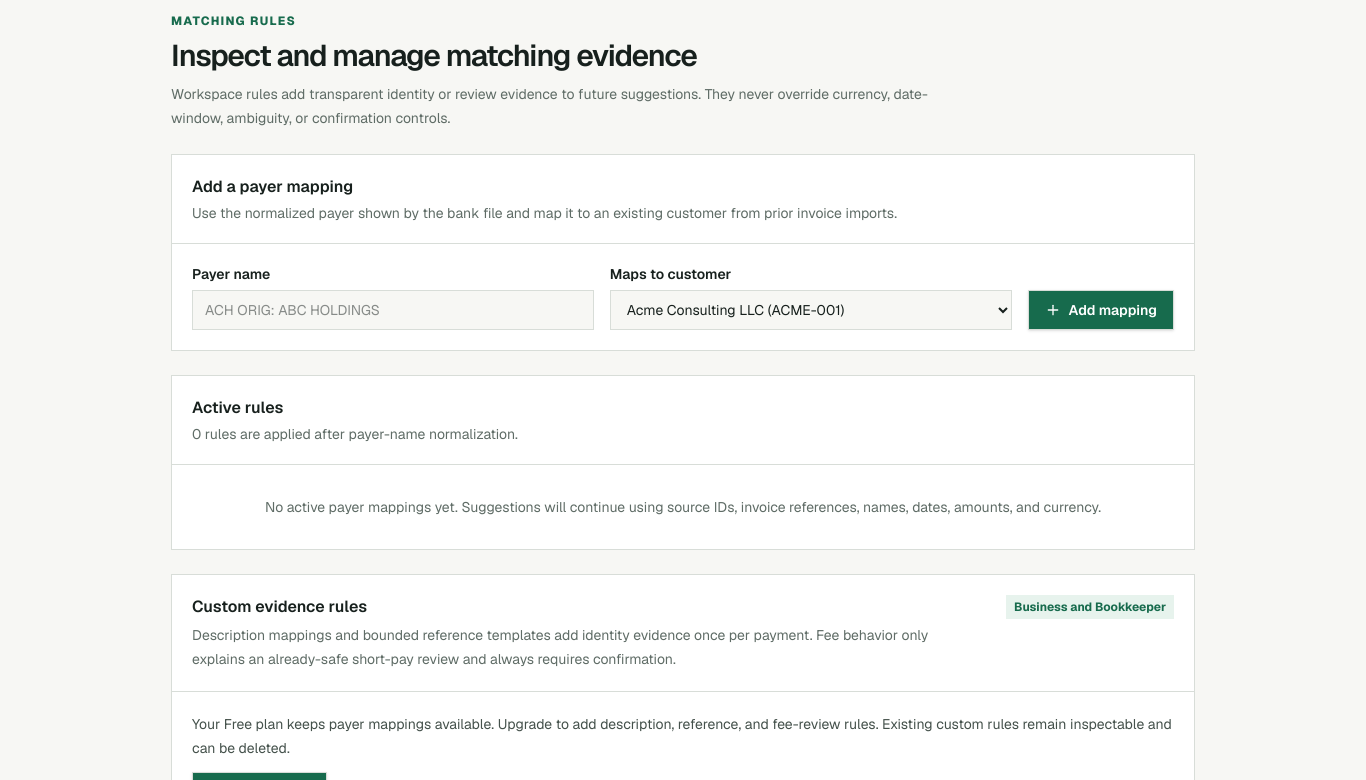
Test: RulesPanel › adds a live payer mapping through the workspace route
This screenshot has width=1366, height=780.
In the field labelled "Payer name": (393, 310) [192, 290, 594, 330], type "Parent Treasury"
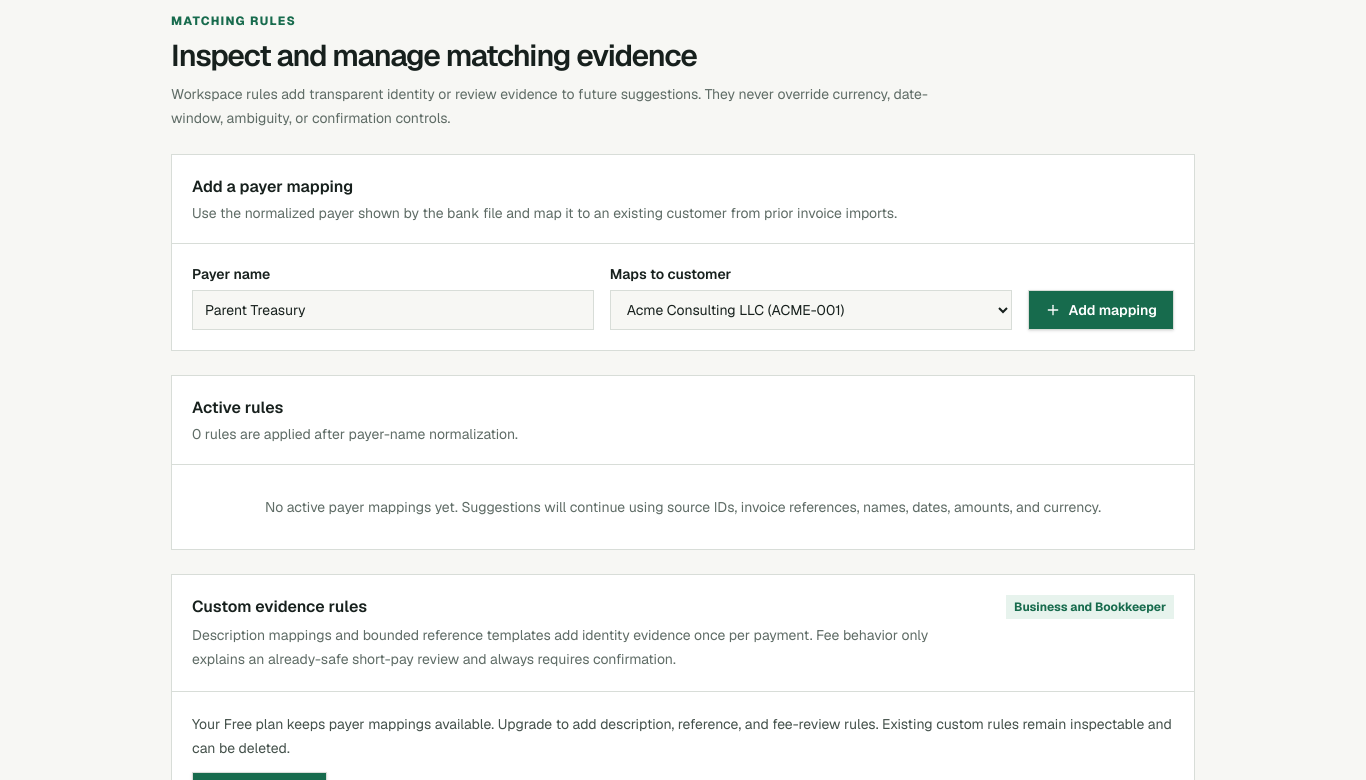
Click the button "Add mapping": (1101, 310) [1028, 290, 1174, 330]
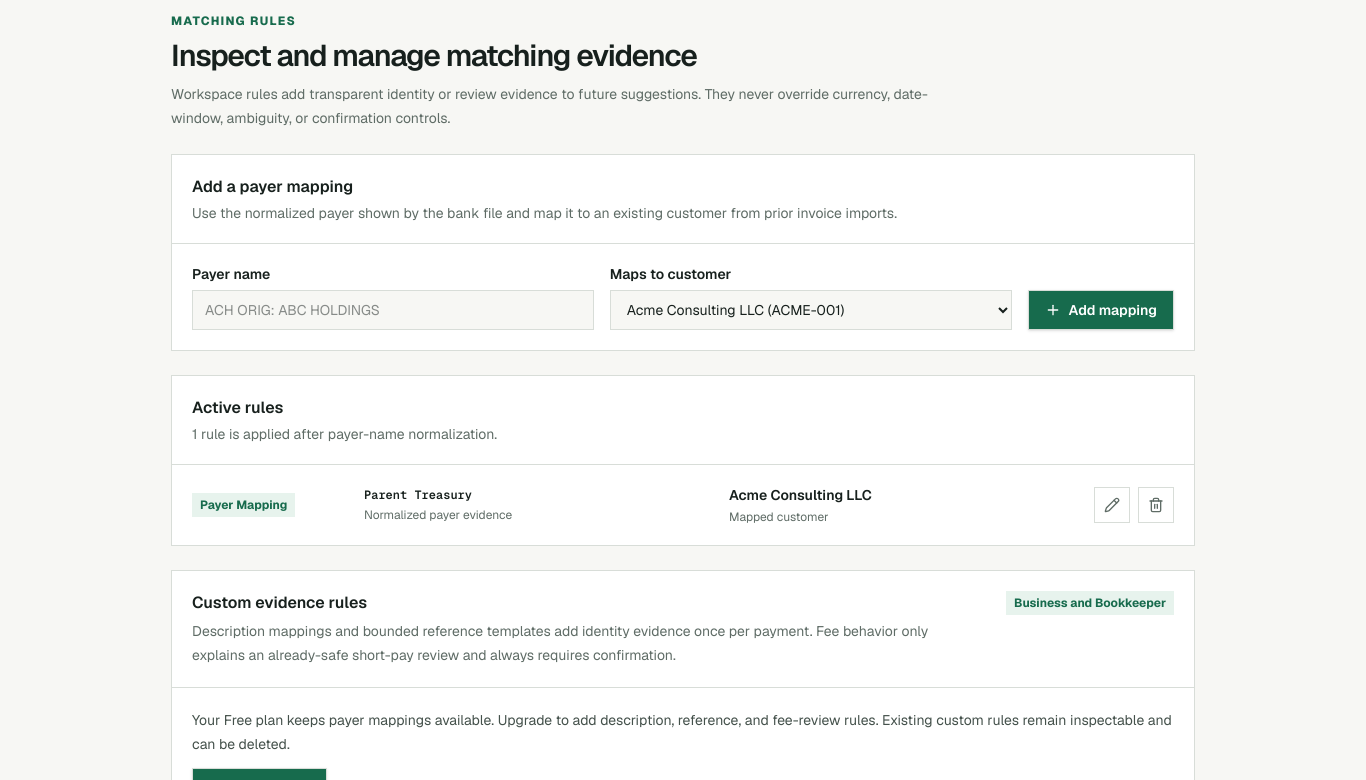
Check: the text "Parent Treasury" is shown, box [364, 487, 472, 503]
Check: the text "Acme Consulting LLC" is shown, box [729, 486, 872, 504]
